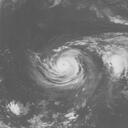cyclone: (29, 48, 86, 89)
